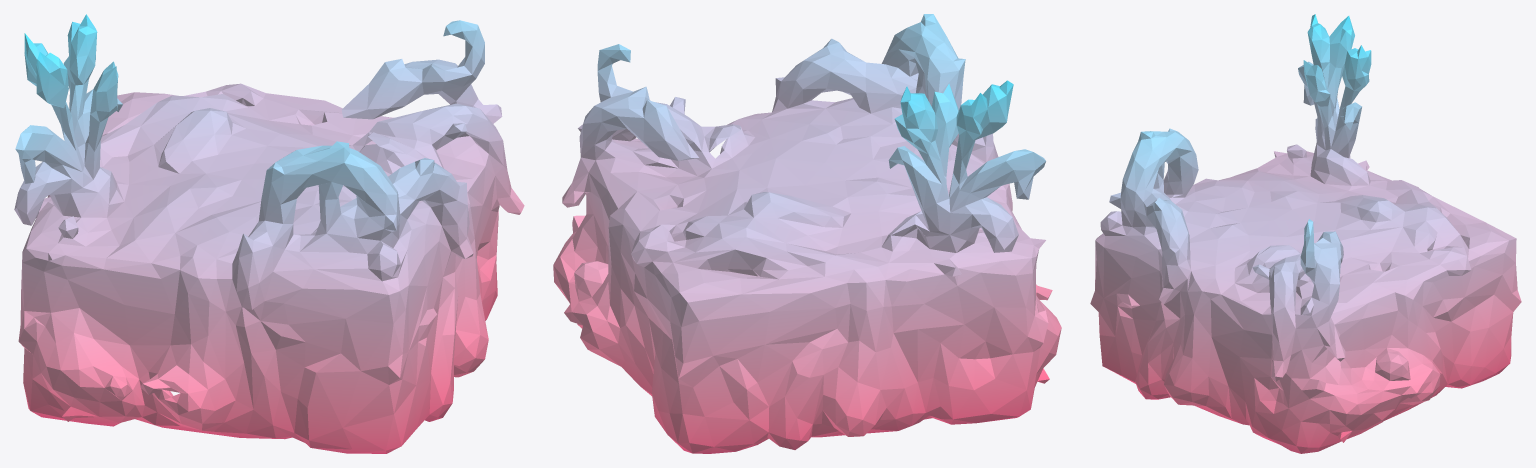
File: 69_cyb_laser_gradient_fish_scales_2823_2026_10_03_891458.glb
3 views of the same model, side by side, from view 1: azimuth 30°, elevation 25°; view 2: azimuth 150°, elevation 25°; view 3: azimuth 270°, elevation 25° (orthographic). The views are drawn at different scales.
Parts seen in each view (by area): view 1: geometry_0; view 2: geometry_0; view 3: geometry_0.
Boxes of the visible parts, x1,y1,x2,y2 form: geometry_0: [14, 14, 524, 453]; geometry_0: [553, 14, 1061, 453]; geometry_0: [1090, 14, 1521, 453].
Size of the model in its own units: 0.9943 by 0.7019 by 0.9797.
